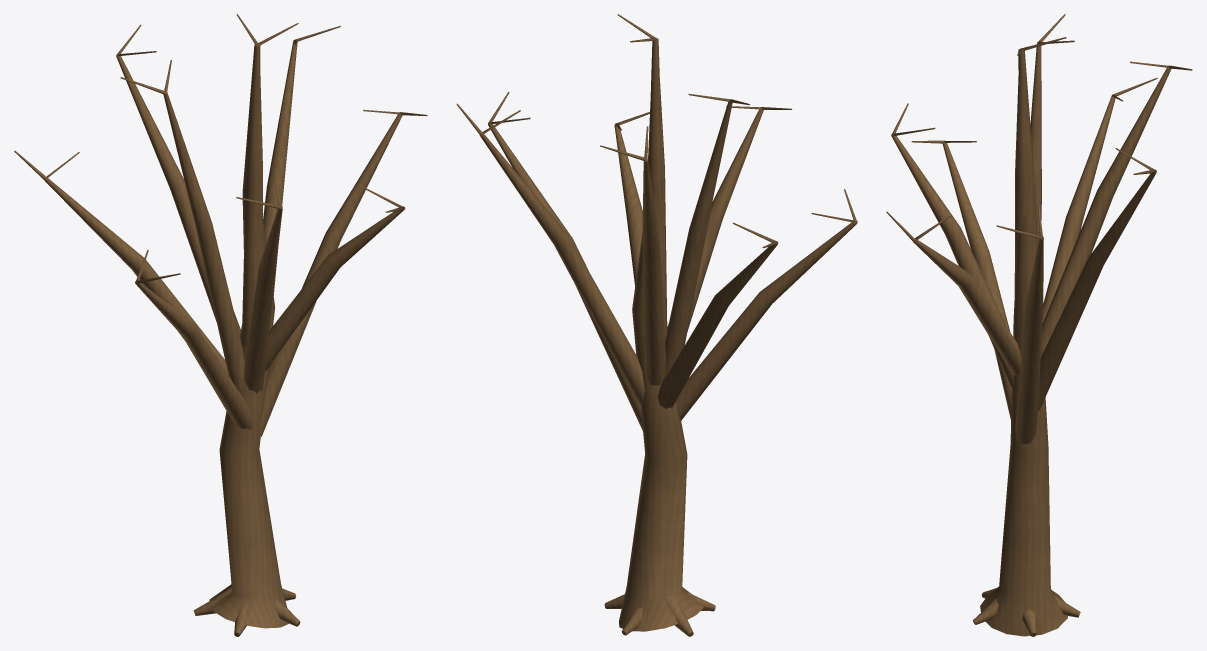
Rendered from tree-trunk-mature.glb.
3 renders of one model, left to right at view 1: azimuth 30°, elevation 25°; view 2: azimuth 150°, elevation 25°; view 3: azimuth 270°, elevation 25°, orthographic.
Parts seen in each view (by area): view 1: tree-trunk-mature / N03 / warm ridged bark; view 2: tree-trunk-mature / N03 / warm ridged bark; view 3: tree-trunk-mature / N03 / warm ridged bark.
Boxes of the visible parts, bbox=[...] form: tree-trunk-mature / N03 / warm ridged bark: bbox=[14, 14, 427, 636]; tree-trunk-mature / N03 / warm ridged bark: bbox=[456, 14, 857, 636]; tree-trunk-mature / N03 / warm ridged bark: bbox=[886, 14, 1192, 636].
Bounding box in the file's own units: 3.07 × 5.2 × 2.46.
1 material, 1 textured.
